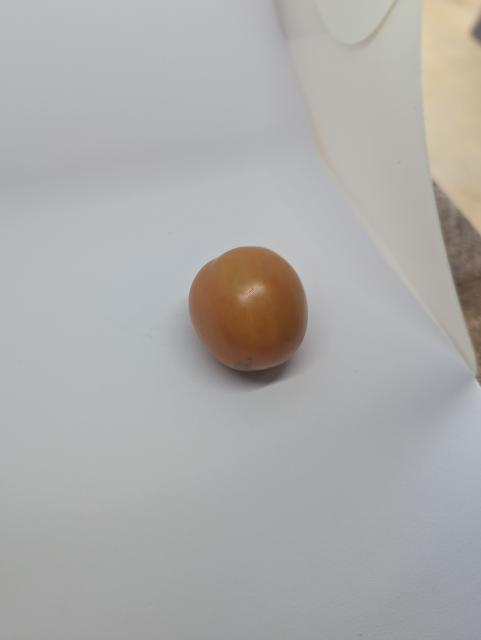turning: (186, 243, 317, 378)
